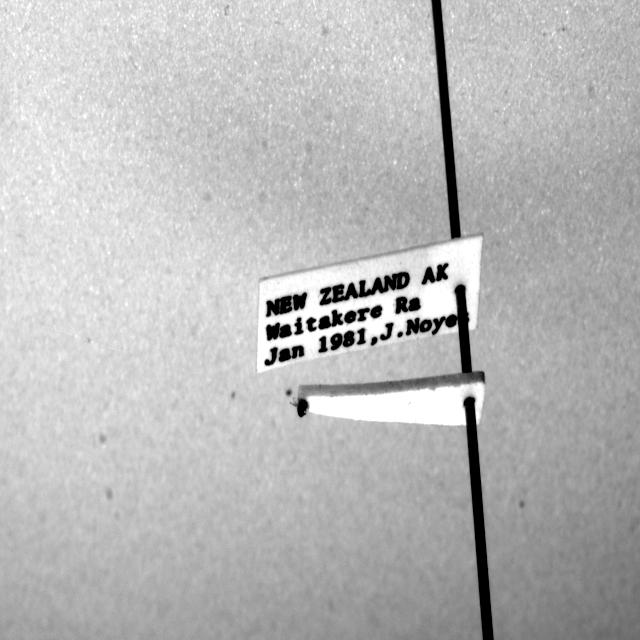typed_label: (256, 234, 482, 371)
